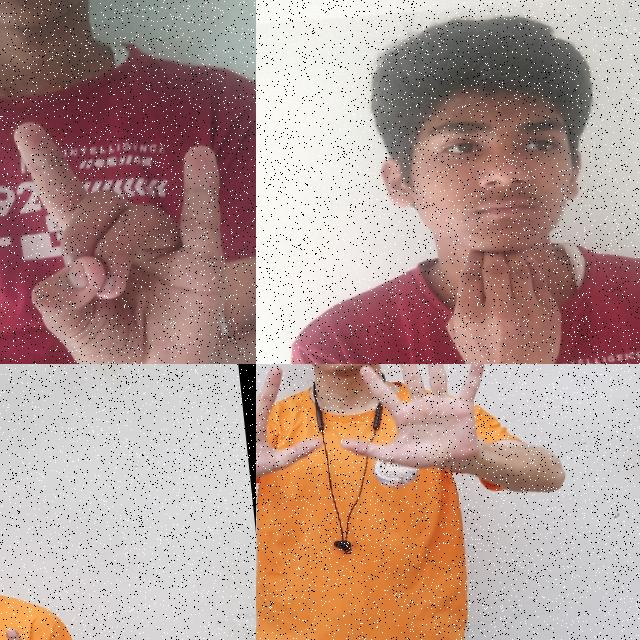Chin Flick: (343, 0, 631, 364)
Corna: (0, 96, 256, 364)
Moutza: (325, 364, 508, 492), (256, 364, 328, 495)
